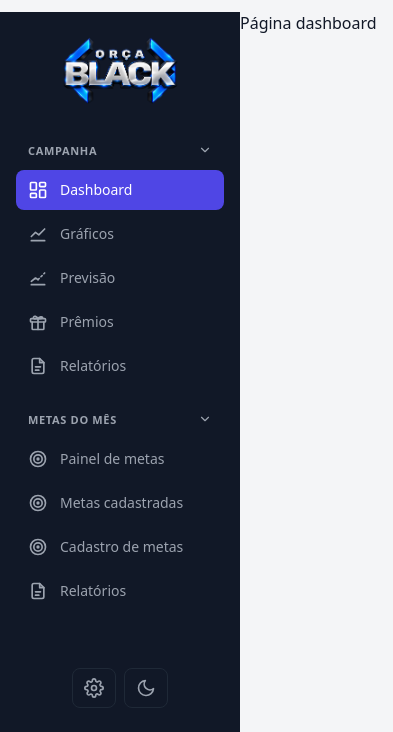
Scenario: AdminLayout › troca para a aba Erros pela engrenagem, sem recarregar a página, e o menu da engrenagem fecha
Step 1. Click the button named "Administração" → (94, 688), box left=72, top=668, right=116, bottom=708
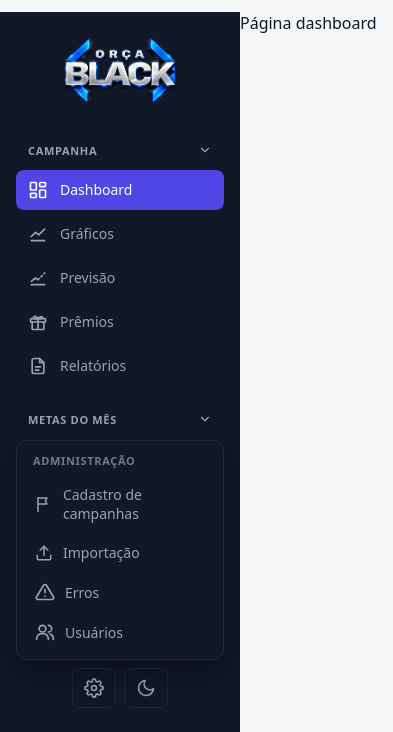
Step 2. Click the menu item "Erros" → (67, 592), box left=35, top=582, right=99, bottom=602
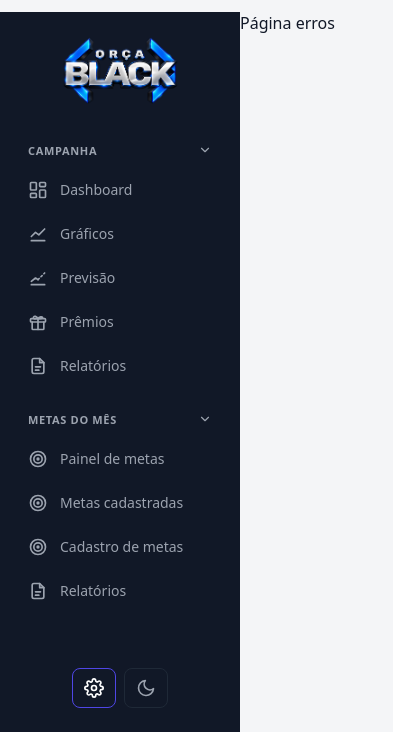
expect the text "Página erros" is shown: met, box left=240, top=12, right=335, bottom=34
expect the text "Página dashboard" is gone: met
expect the menu is gone: met
